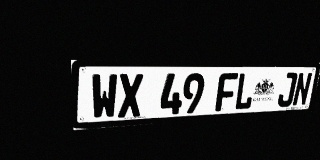4: (160, 73, 184, 115)
9: (181, 73, 205, 114)
F: (215, 73, 238, 111)
J: (276, 73, 298, 107)
L: (234, 73, 256, 110)
N: (292, 72, 313, 106)
W: (91, 74, 118, 120)
X: (118, 74, 143, 118)
